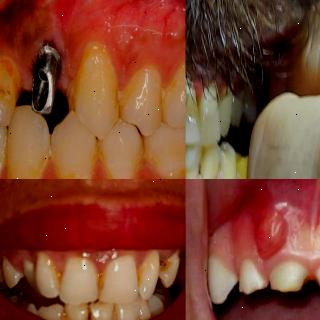calculus: (104, 302, 123, 320), (80, 307, 101, 320), (53, 312, 77, 320)
cavities: (293, 273, 313, 297), (154, 256, 174, 276), (307, 267, 320, 294)
maligned: (20, 255, 44, 294)
plaque: (68, 54, 114, 118), (52, 147, 92, 179), (8, 152, 45, 179), (158, 77, 181, 112), (114, 85, 134, 116)
stains: (100, 143, 144, 179), (49, 265, 70, 293), (89, 268, 109, 294), (131, 264, 149, 290)
